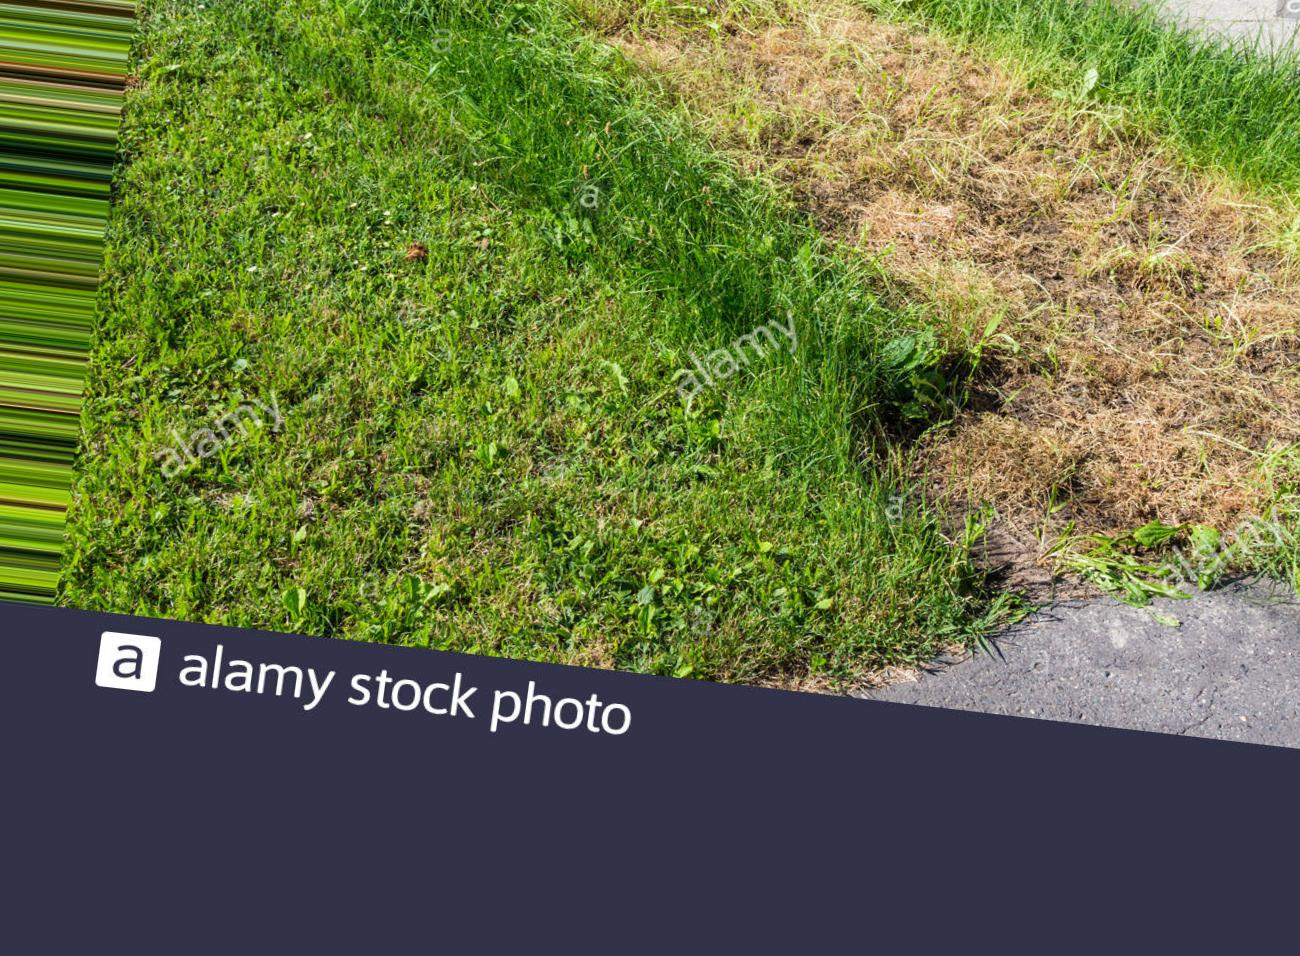patch: (949, 222, 1271, 482), (709, 41, 1011, 241)
